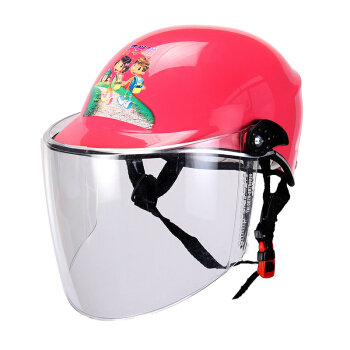helmet: (72, 12, 311, 174)
